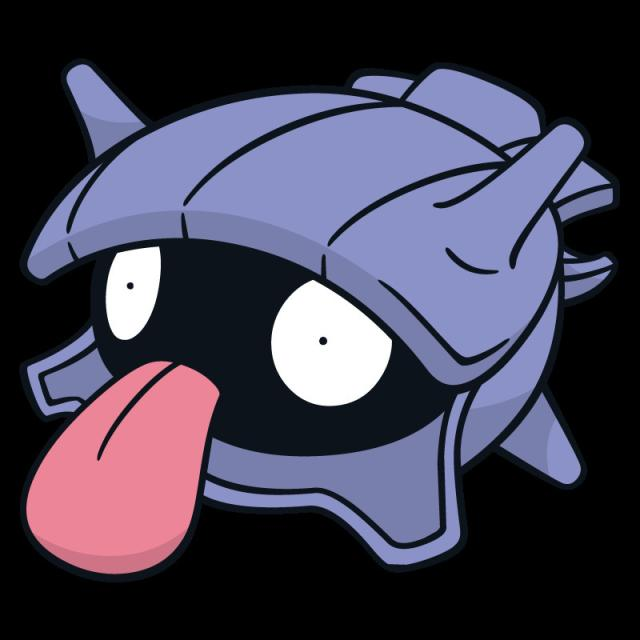Shellder: (24, 63, 602, 566)
